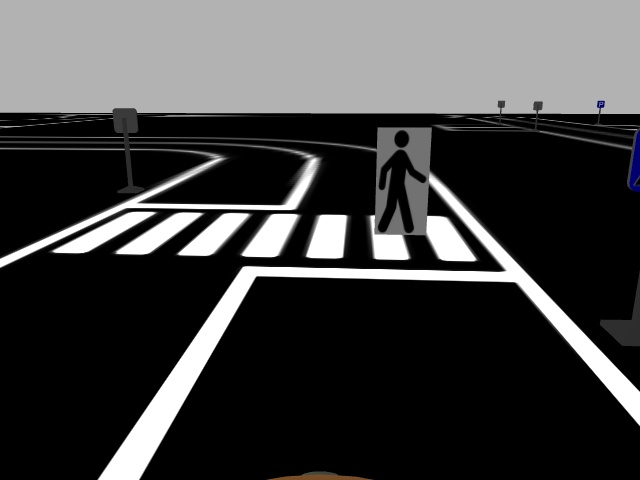parking: (595, 99, 607, 110)
pedestrian: (373, 124, 431, 235)
